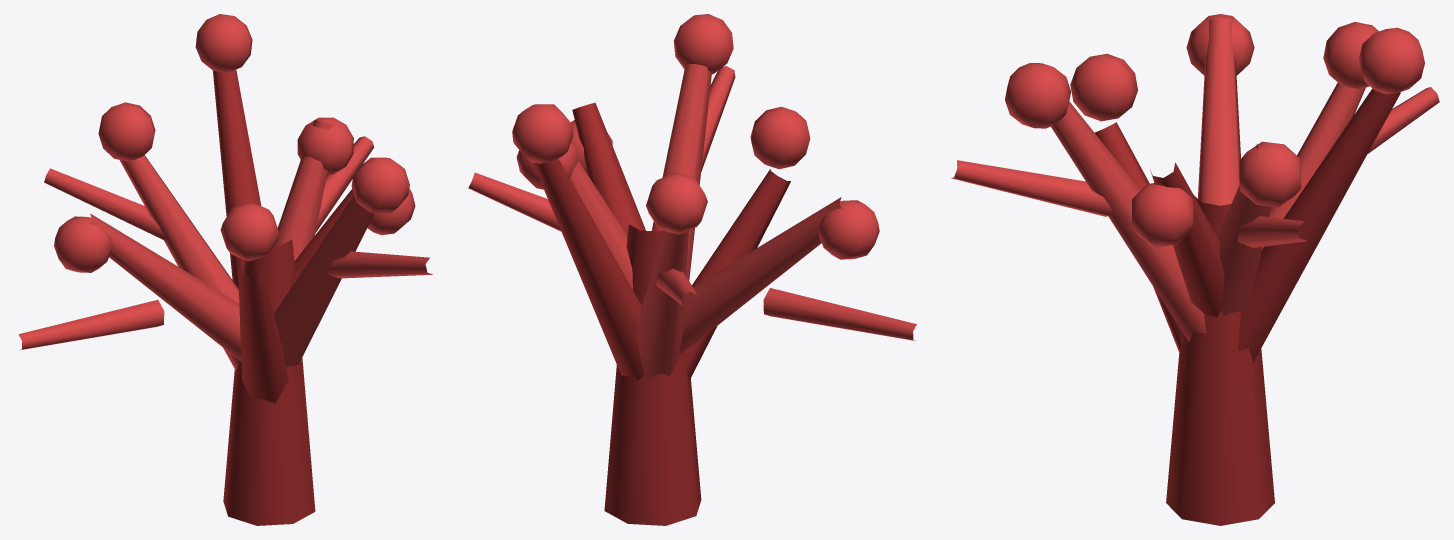
Rendered from coral_branch.glb.
3 views of the same model, side by side, from view 1: azimuth 30°, elevation 25°; view 2: azimuth 150°, elevation 25°; view 3: azimuth 270°, elevation 25° (orthographic). The views are drawn at different scales.
Parts seen in each view (by area): view 1: coral_branch; view 2: coral_branch; view 3: coral_branch.
Boxes of the visible parts, x1,y1,x2,y2 form: coral_branch: (18, 14, 432, 525); coral_branch: (468, 14, 916, 525); coral_branch: (951, 14, 1439, 525).
Size of the model in its own units: 0.7575 by 0.7925 by 0.7187.
